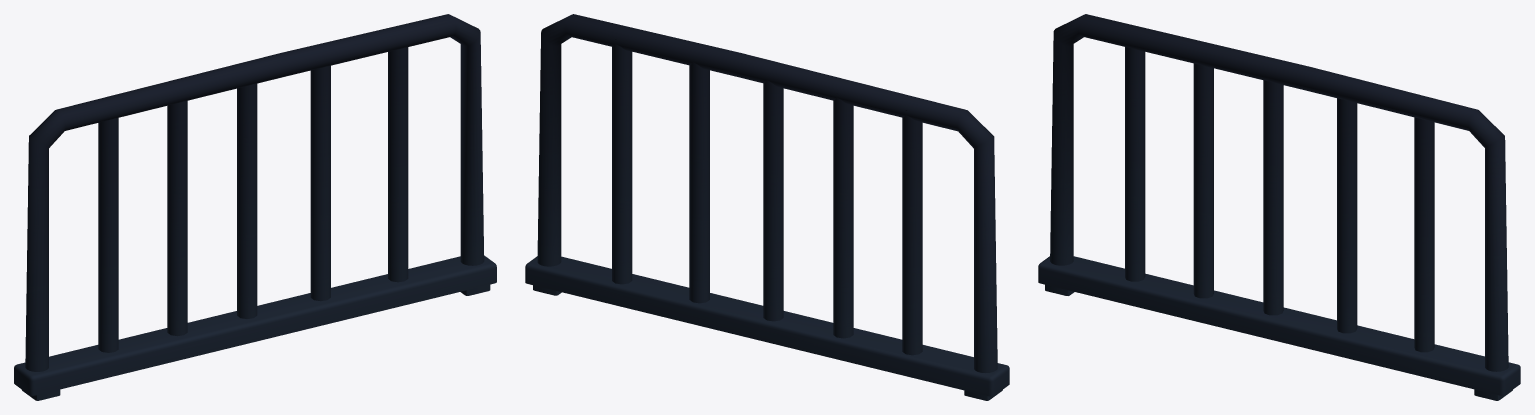
Rendered from MSH_BardaMetalTerror.fbx.
The picture shows the model from 3 angles, left to right: view 1: azimuth 30°, elevation 25°; view 2: azimuth 150°, elevation 25°; view 3: azimuth 330°, elevation 25°; orthographic projection.
Parts seen in each view (by area): view 1: MSH_BardaMetal002; view 2: MSH_BardaMetal002; view 3: MSH_BardaMetal002.
Boxes of the visible parts, <box> form: MSH_BardaMetal002: <box>14,14,496,400</box>; MSH_BardaMetal002: <box>525,14,1009,400</box>; MSH_BardaMetal002: <box>1038,14,1520,400</box>.
Size of the model in its own units: 116 by 66.13 by 8.11.
